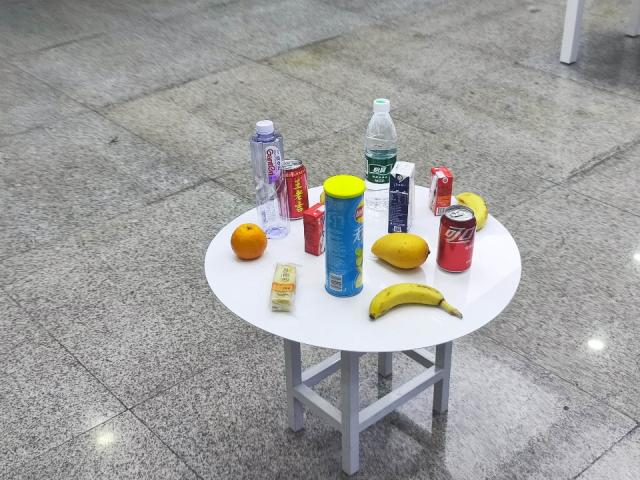Canned_drinks: (437, 204, 475, 278), (280, 155, 311, 226)
bottle: (251, 121, 289, 236), (367, 98, 394, 216)
cylinder: (321, 170, 369, 308)
